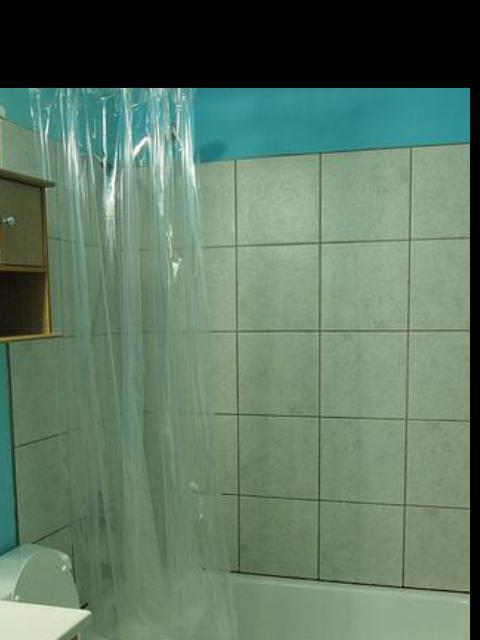Lavamanos: (0, 571, 41, 640)
Sanitario: (0, 541, 221, 640)
